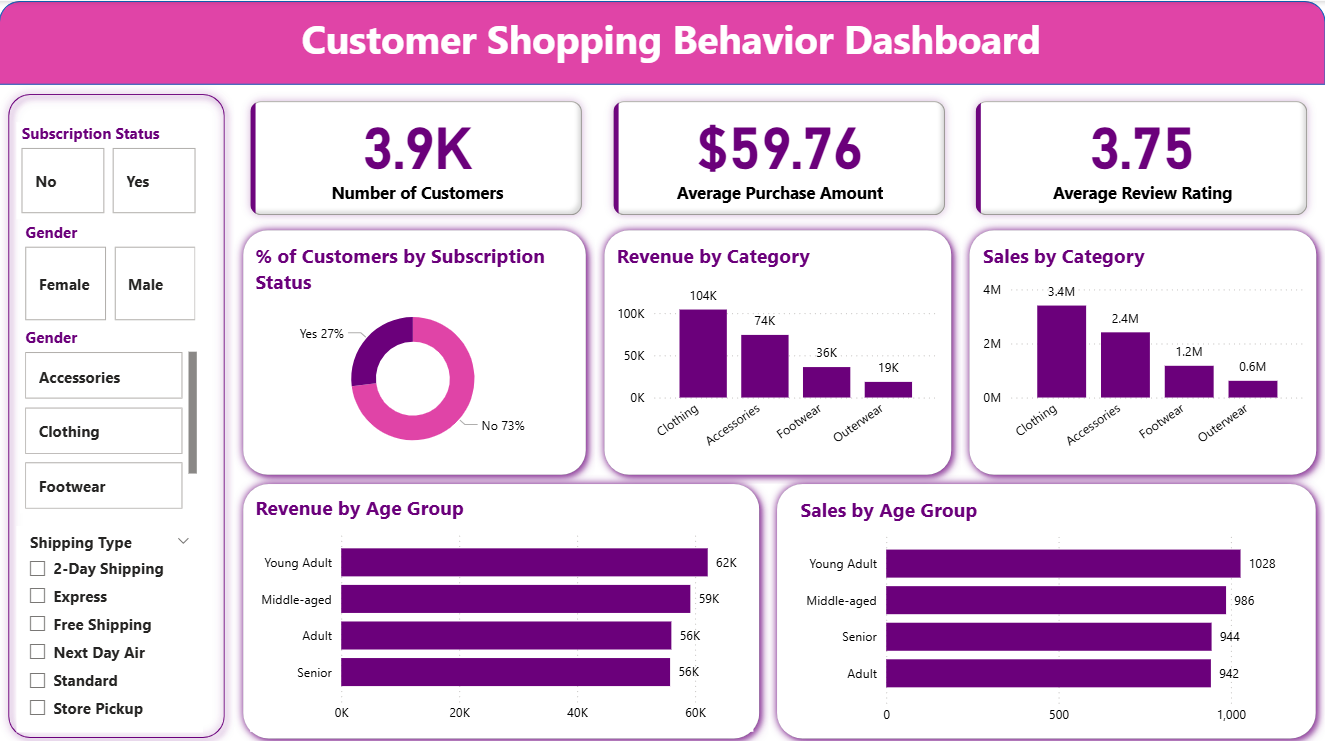

What the dashboard file says about the page in this screenshot:
{"tool":"powerbi","page":{"name":"Page 1","canvas":[1280,720],"ordinal":0},"visuals":[{"type":"cardVisual","fields":{"Data":["public customer.Number of Customers","public customer.Average Purchase Amount","public customer.Average Review Rating"]},"box":[226.4,81,1053.9,142.7],"z":0},{"type":"shape","box":[0,0,1280.3,81],"z":1000},{"type":"textbox","box":[16.5,5.5,1263.8,70],"z":2000},{"type":"shape","box":[226.4,212.7,348.5,253.9],"z":3000},{"type":"donutChart","title":"% of Customers by Subscription Status","fields":{"Category":["public customer.subscription_status"],"Y":["Count(public customer.customer_id)"]},"box":[242.9,233.3,314.2,214.1],"z":4000},{"type":"shape","box":[927.6,212.7,352.7,253.9],"z":5000},{"type":"shape","box":[575,212.7,352.7,253.9],"z":6000},{"type":"clusteredColumnChart","title":"Revenue by Category","fields":{"Category":["public customer.category"],"Y":["Sum(public customer.purchase_amount)"]},"box":[591.4,233.3,321.1,214.1],"z":7000},{"type":"clusteredColumnChart","title":"Sales by Category","fields":{"Category":["public customer.category"],"Y":["Sum(public customer.customer_id)"]},"box":[944.1,233.3,321.1,214.1],"z":8000},{"type":"shape","box":[0,80.8,226.8,639.4],"z":9000},{"type":"advancedSlicerVisual","title":"Subscription Status","fields":{"Values":["public customer.subscription_status"]},"box":[16.5,116.6,179.8,93.3],"z":10000},{"type":"advancedSlicerVisual","title":"Gender","fields":{"Values":["public customer.gender"]},"box":[20.6,212.7,175.6,101.5],"z":11000},{"type":"advancedSlicerVisual","title":"Gender","fields":{"Values":["public customer.category"]},"box":[20.6,314.2,175.6,181.1],"z":12000},{"type":"slicer","fields":{"Values":["public customer.shipping_type"]},"box":[16.5,506.3,179.8,199],"z":13000},{"type":"shape","box":[226.4,456.9,516,263.5],"z":14000},{"type":"shape","box":[742.4,456.9,537.9,263.5],"z":15000},{"type":"clusteredBarChart","title":"Revenue by Age Group","fields":{"Category":["public customer.age_group"],"Y":["Sum(public customer.purchase_amount)"]},"box":[242.9,476.2,485.8,229.2],"z":16000},{"type":"clusteredBarChart","title":"Sales by Age Group","fields":{"Category":["public customer.age_group"],"Y":["Count(public customer.customer_id)"]},"box":[768.4,477.5,485.8,229.2],"z":17000}]}

Visuals, with their boxes in screenshot pixels (x1, y1, x2, y2), scaled from the page's 1280x720 canvas onto the 1325x741 screenshot:
cardVisual - public customer.Number of Customers x public customer.Average Purchase Amount: (234,83,1324,230)
shape: (0,0,1324,83)
textbox: (17,6,1324,78)
shape: (234,219,595,480)
"% of Customers by Subscription Status" donutChart: (251,240,577,460)
shape: (960,219,1324,480)
shape: (595,219,960,480)
"Revenue by Category" clusteredColumnChart: (612,240,945,460)
"Sales by Category" clusteredColumnChart: (977,240,1310,460)
shape: (0,83,235,740)
"Subscription Status" advancedSlicerVisual: (17,120,203,216)
"Gender" advancedSlicerVisual: (21,219,203,323)
"Gender" advancedSlicerVisual: (21,323,203,510)
slicer - public customer.shipping_type: (17,521,203,726)
shape: (234,470,768,740)
shape: (768,470,1324,740)
"Revenue by Age Group" clusteredBarChart: (251,490,754,726)
"Sales by Age Group" clusteredBarChart: (795,491,1298,727)
